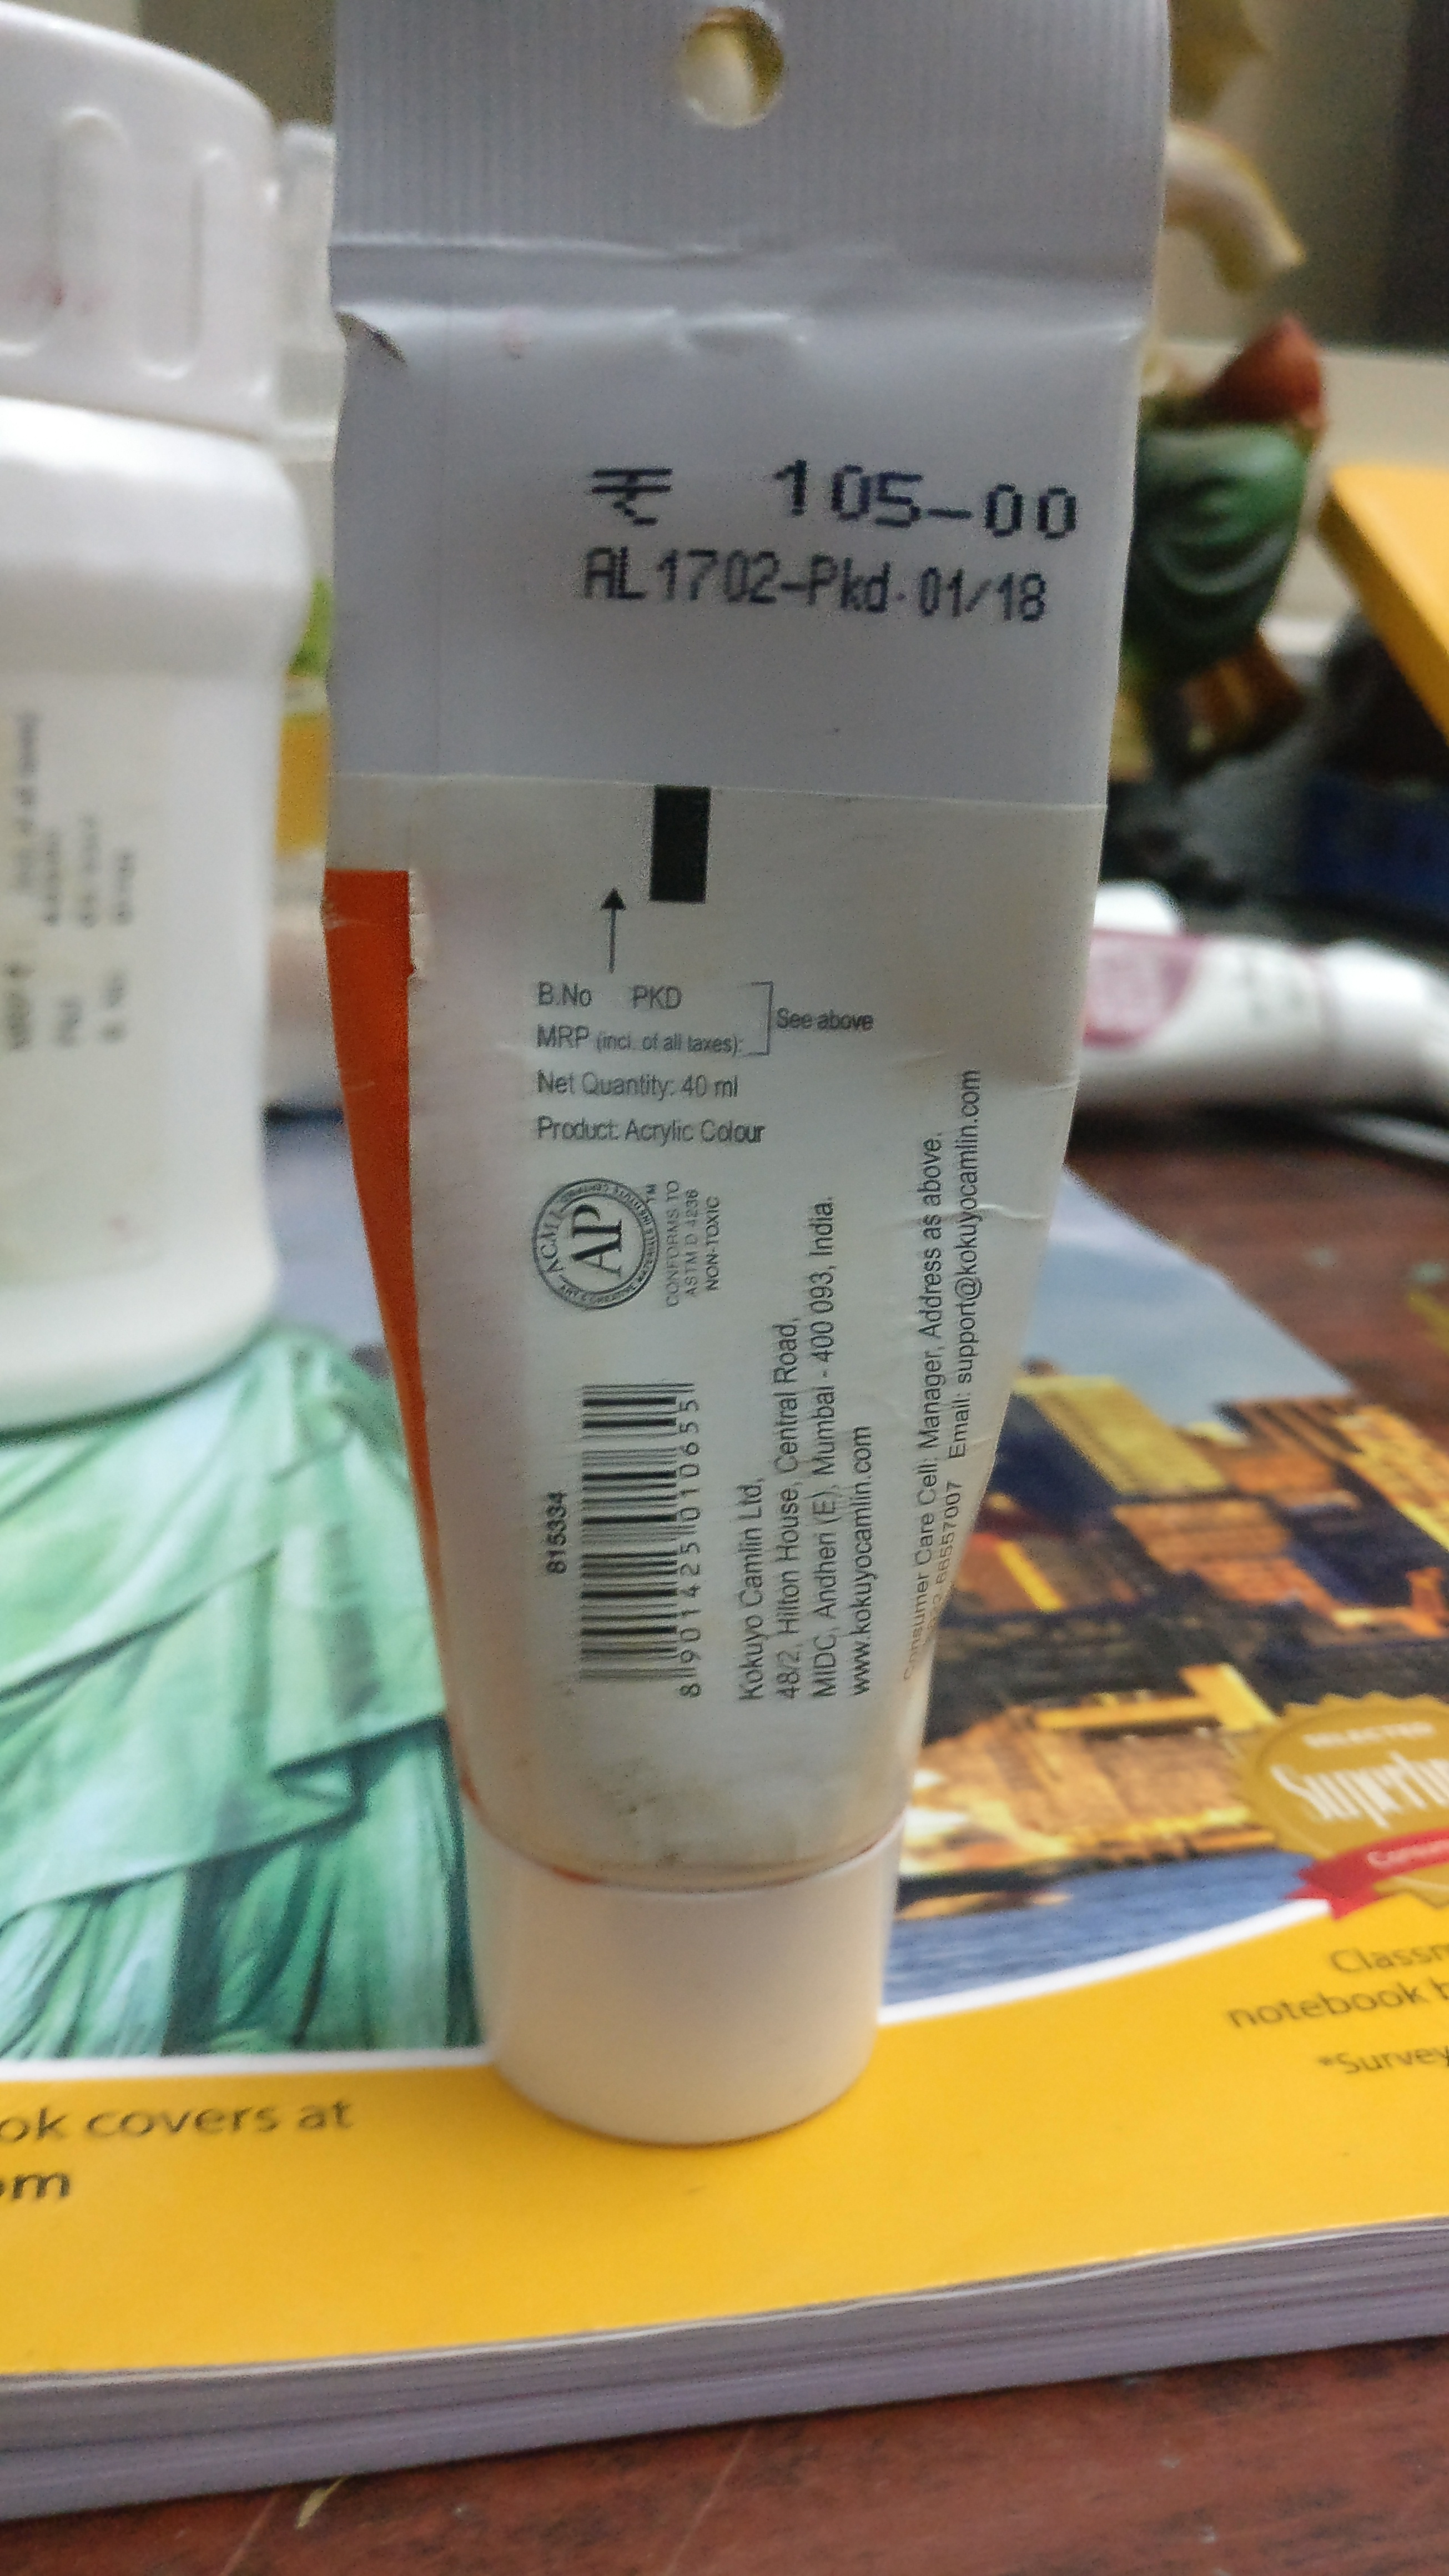barcode: (511, 1346, 724, 1713)
